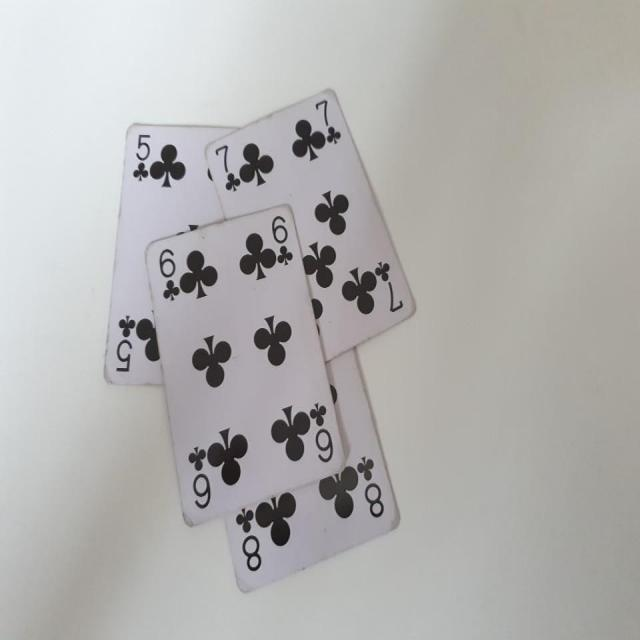5 Trefoils: (102, 118, 243, 385)
6 Trefoils: (142, 204, 347, 529)
7 Trefoils: (203, 86, 419, 363)
8 Trefoils: (222, 344, 405, 601)
